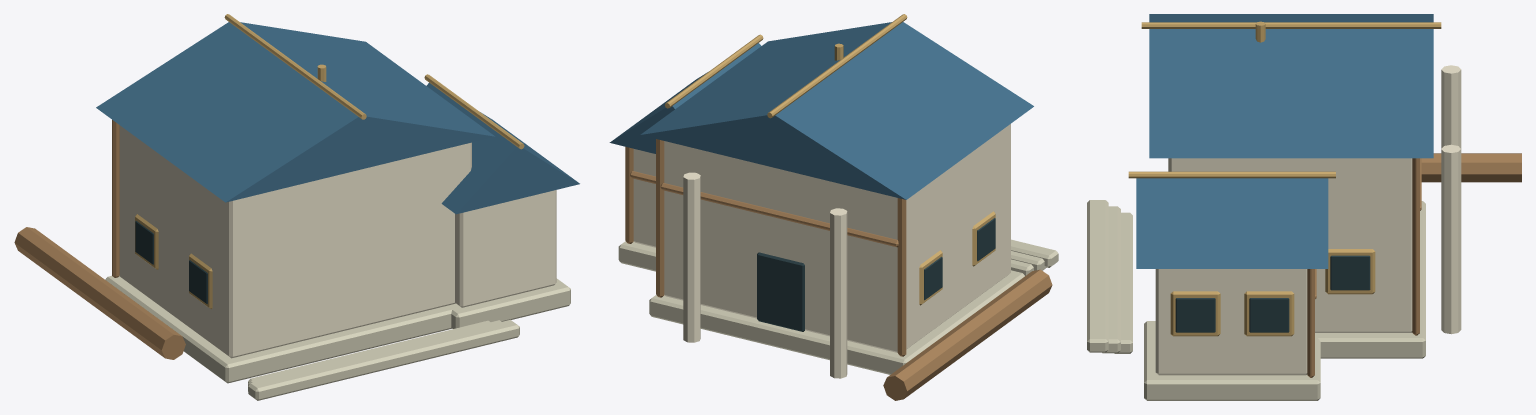
File: level_23.glb
3 views of the same model, side by side, from view 1: azimuth 30°, elevation 25°; view 2: azimuth 150°, elevation 25°; view 3: azimuth 270°, elevation 25° (orthographic). The views are drawn at different scales.
Visible parts, largest first — view 1: timber_yard — level 23; view 2: timber_yard — level 23; view 3: timber_yard — level 23.
Part boxes in pixels (left/top/right/bottom): timber_yard — level 23: left=14, top=14, right=579, bottom=400; timber_yard — level 23: left=609, top=14, right=1058, bottom=400; timber_yard — level 23: left=1087, top=14, right=1521, bottom=400.
Bounding box in the file's own units: 6.43 × 3.92 × 5.66.
